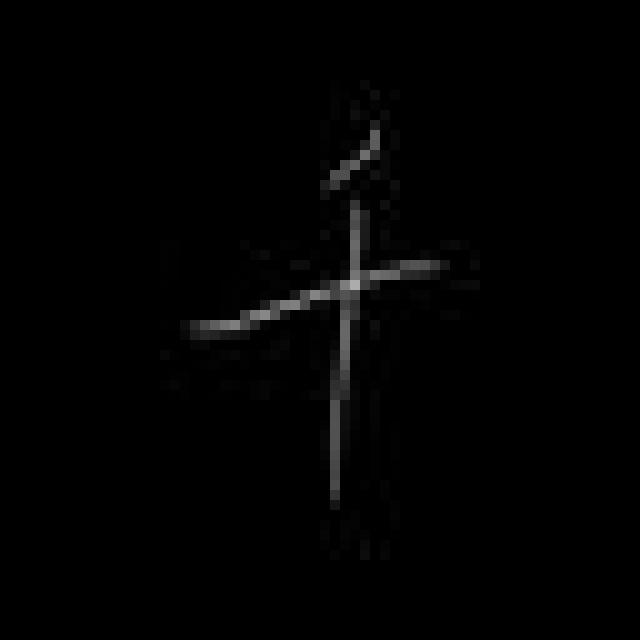1000 -a thousand-: (188, 135, 451, 508)
